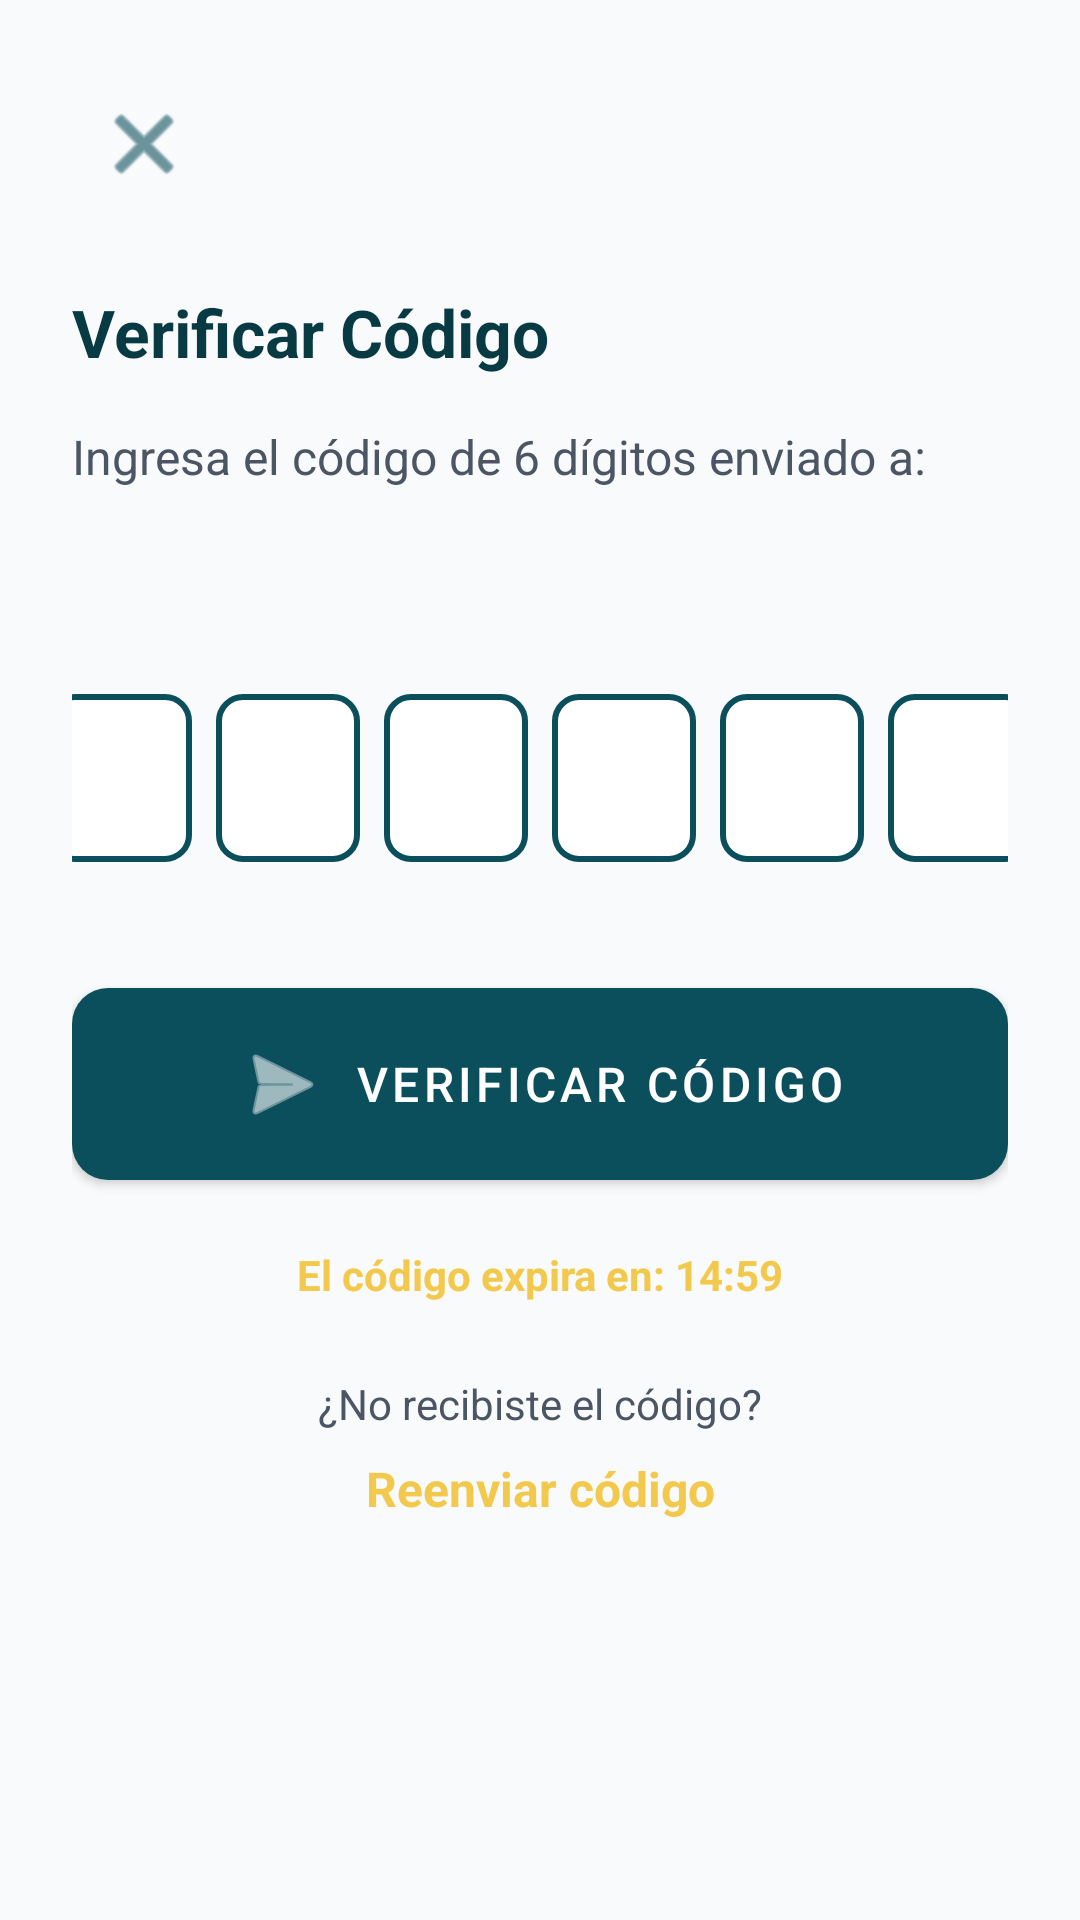

Named icons in this screenshot (1080px×1920px) and their bounding boxes, (left=x1, top=y1, right=x2, bottom=y2):
Volver: (left=114, top=114, right=174, bottom=174)
